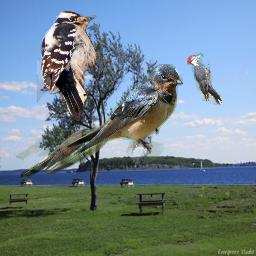Cuckoo: (16, 126, 115, 178)
Swallow: (59, 64, 183, 169)
Woodpecker: (37, 9, 112, 121), (187, 53, 222, 105)
